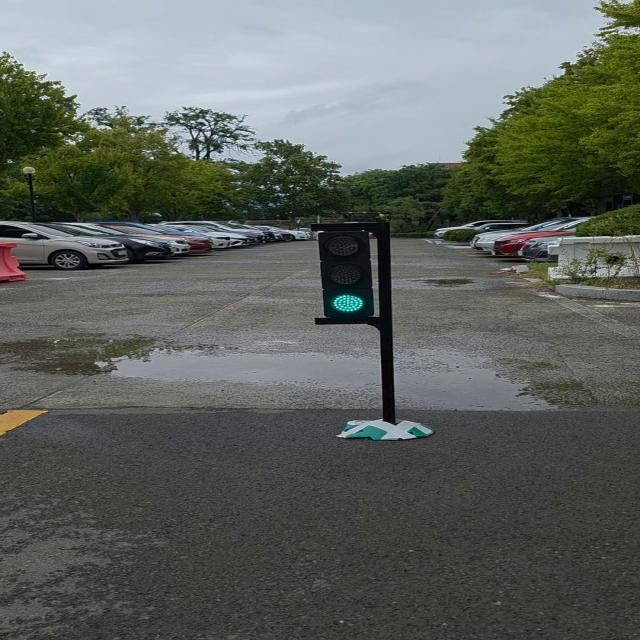green: (317, 221, 382, 325)
